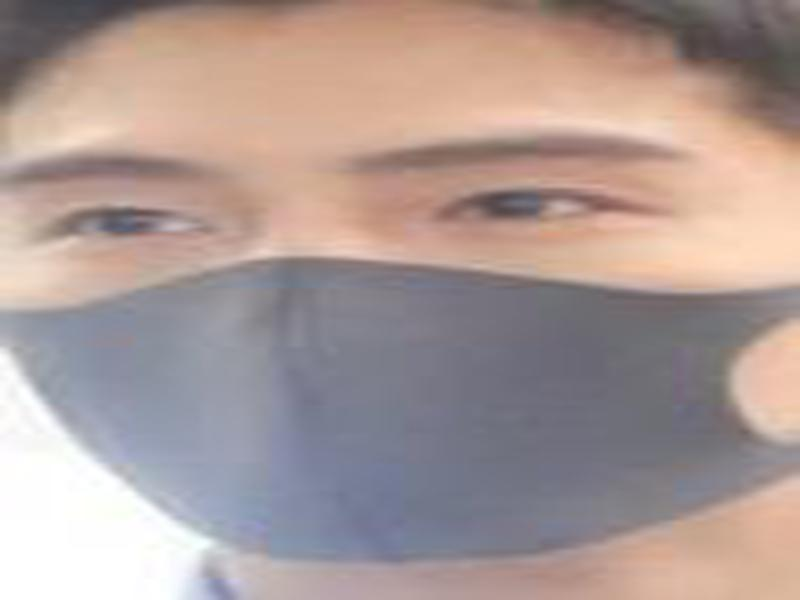with_mask: (1, 2, 799, 567)
